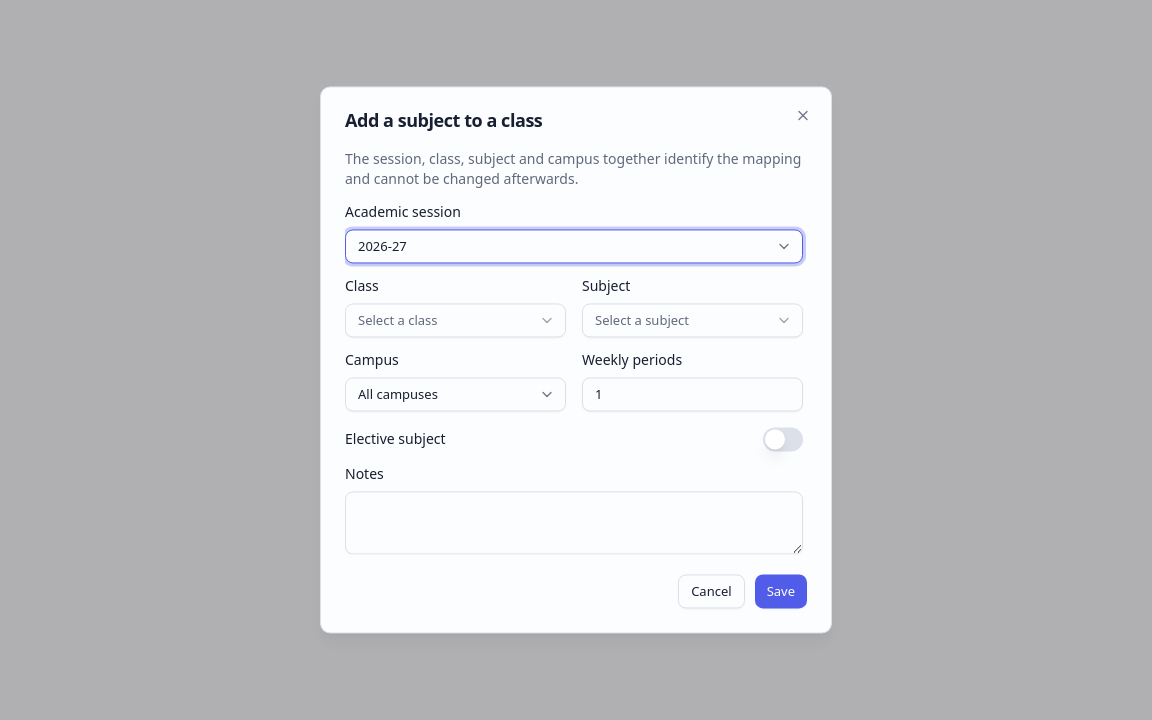
Test: CurriculumFormDialog › adding a subject › asks for a whole number of periods when the field is cleared
Step 1. Click the dropdown labelled "class" → (456, 320), box [345, 303, 566, 337]
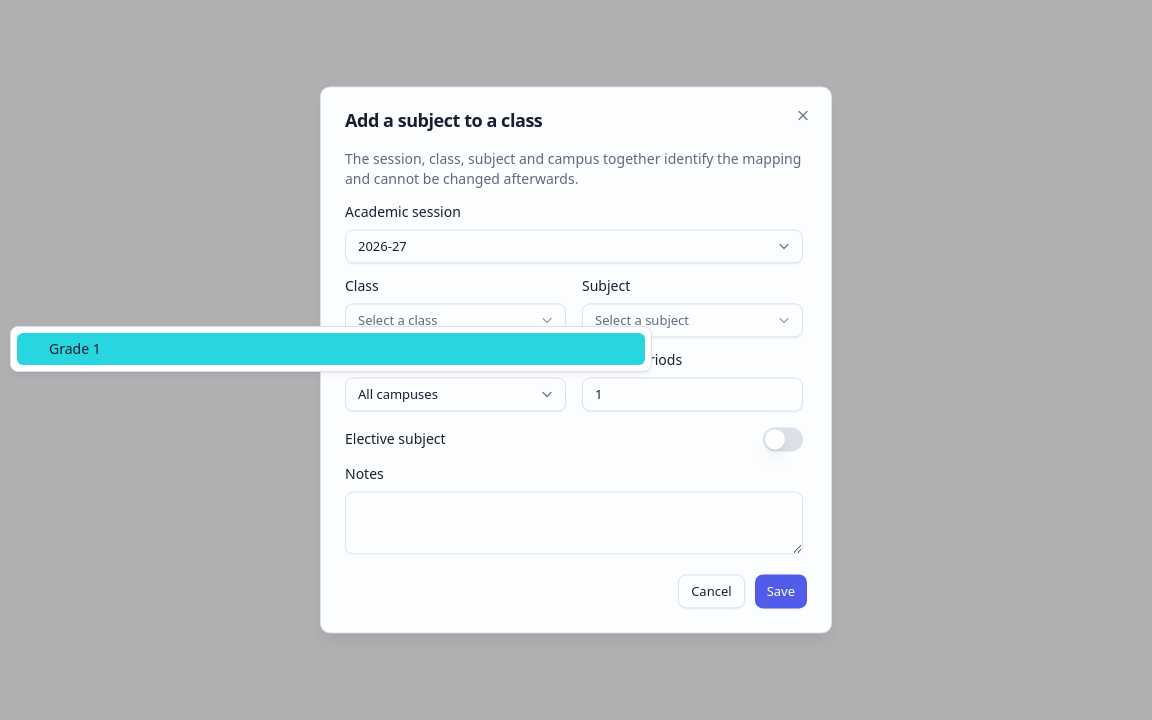
Step 2. Click the option "Grade 1" → (75, 348), box [17, 333, 645, 365]
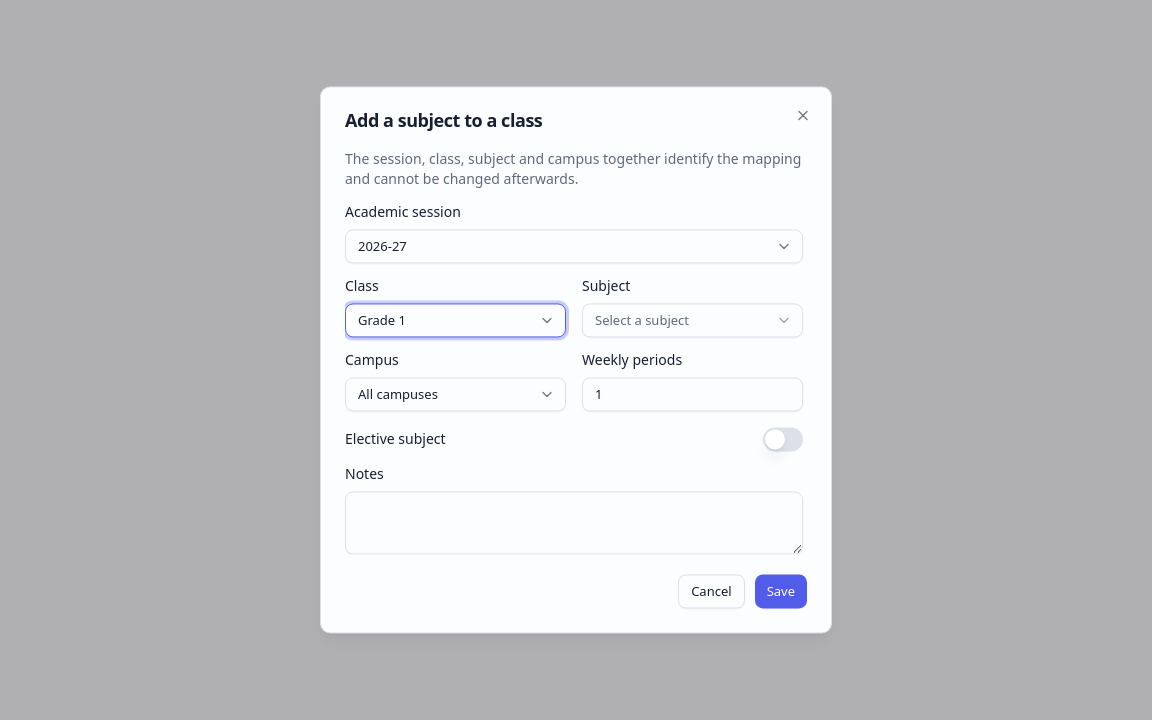
Step 3. Click the dropdown labelled "subject" → (692, 320), box [582, 303, 803, 337]
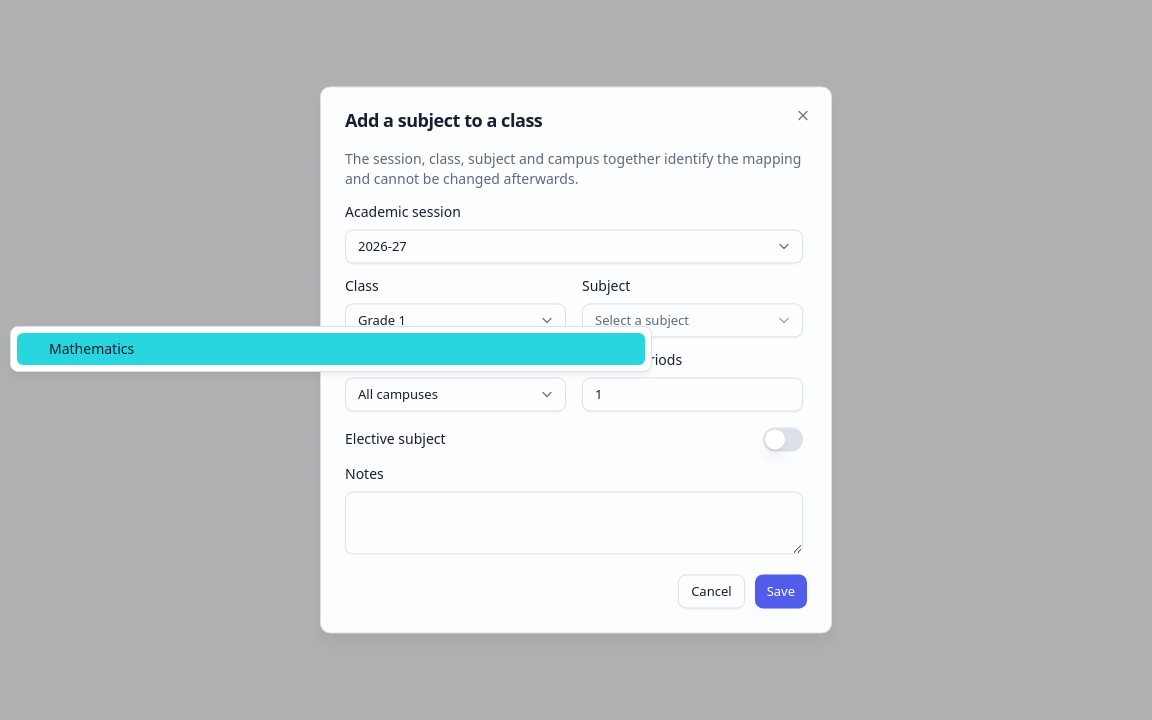
Step 4. Click the option "Mathematics" → (92, 348), box [17, 333, 645, 365]
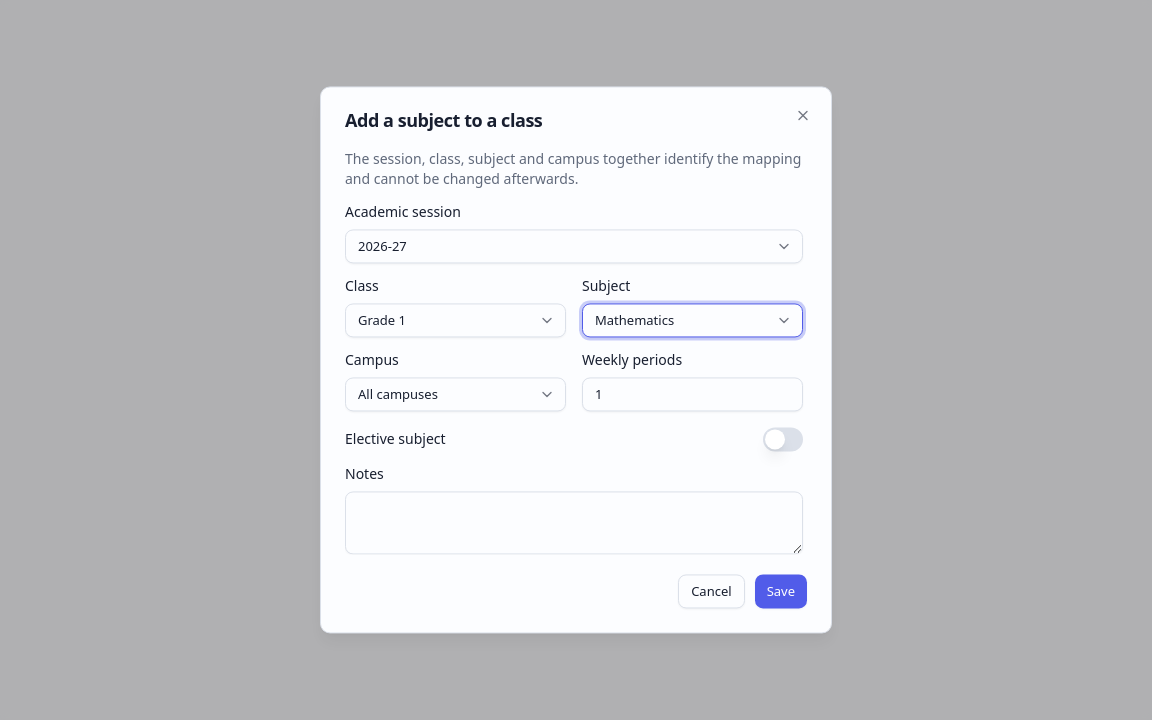
Step 5. Clear the number field labelled "Weekly periods" → (692, 394), box [582, 377, 803, 411]
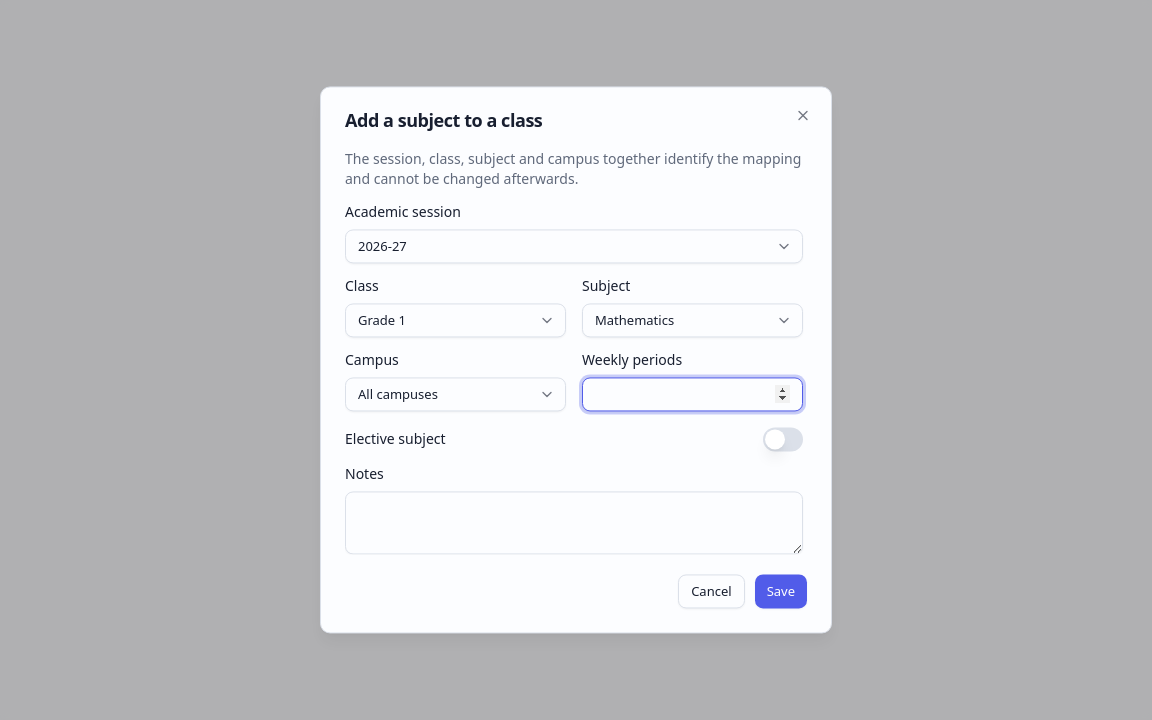
Step 6. Click the button "Save" → (781, 592), box [755, 575, 807, 609]
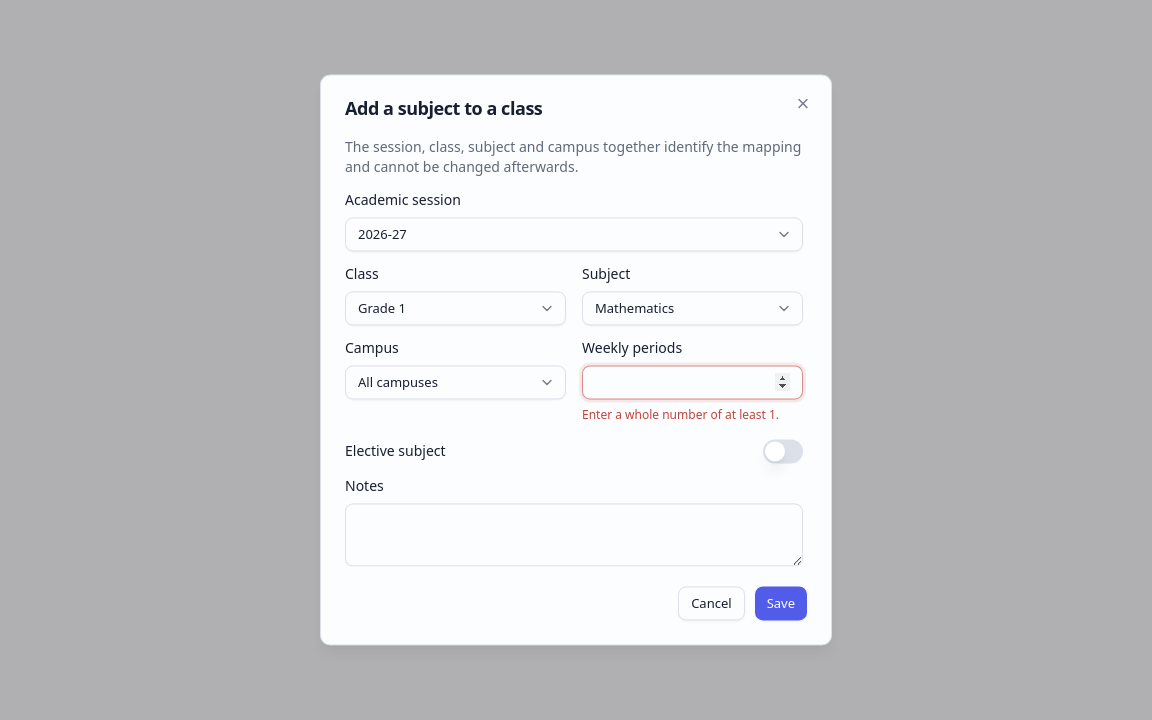
Expected: the text "Enter a whole number of at least 1." is shown, [582, 407, 803, 423]
